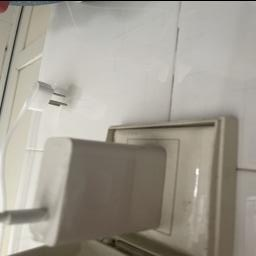outlet: (99, 114, 238, 256)
